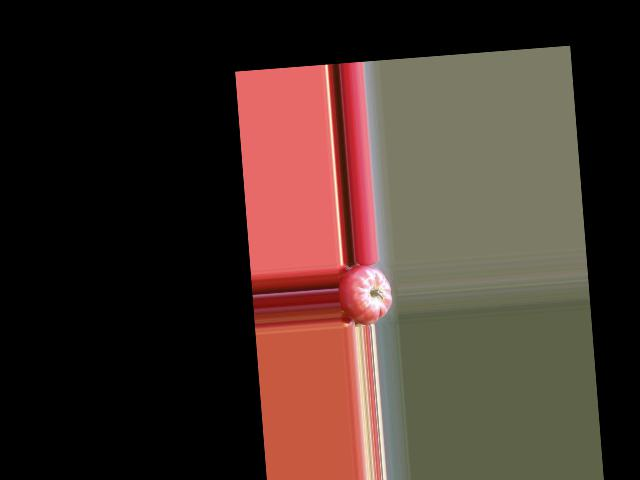tomato: (336, 263, 393, 327)
